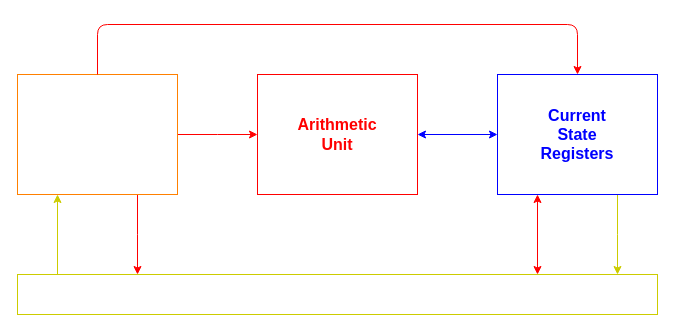
The diagram is 675 pixels wide and 332 high, and some of its shapes have lost their labels. Each missing label, with the centre of its shape:
"Instruction Decoder" goes at pixel 97 134.
"Memory Interface" goes at pixel 337 294.
